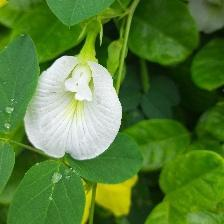shankupushpam: (20, 53, 127, 164)
